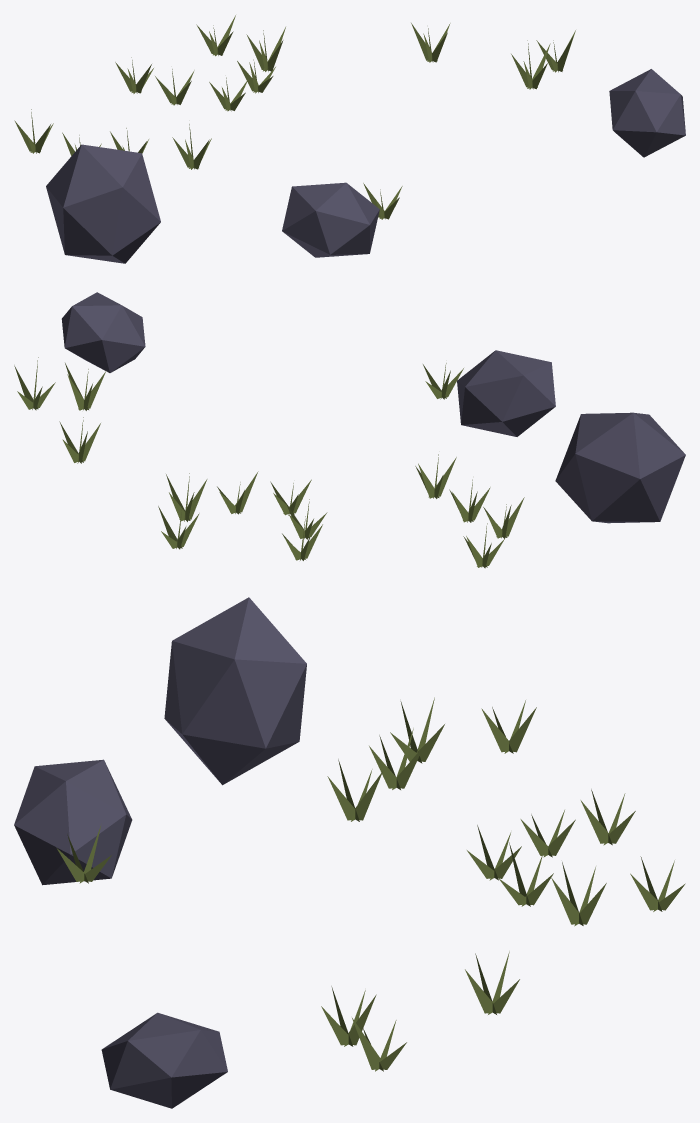
File: decors.glb
The picture shows the model from 3 angles, top to bottom: view 1: azimuth 30°, elevation 25°; view 2: azimuth 150°, elevation 25°; view 3: azimuth 270°, elevation 25°; orthographic projection. The views are drawn at different scales.
Visible parts, largest first — view 1: Rock_0, Rock_1, Rock_2, Grass_12, Grass_18, Grass_07, Grass_17, Grass_11, Grass_05, Grass_09, Grass_16, Grass_08 (+3 smaller); view 2: Rock_0, Rock_1, Rock_2, Grass_18, Grass_12, Grass_07, Grass_10, Grass_11, Grass_17, Grass_15, Grass_00, Grass_06 (+5 smaller); view 3: Rock_0, Rock_1, Rock_2, Grass_18, Grass_11, Grass_07, Grass_15, Grass_12, Grass_09, Grass_05, Grass_06, Grass_08 (+5 smaller).
Part boxes in pixels (x1,y1,x2,y2): Rock_0: (46, 144, 160, 263); Rock_1: (282, 182, 379, 257); Rock_2: (609, 69, 685, 157); Grass_12: (511, 40, 550, 89); Grass_18: (246, 27, 285, 71); Grass_07: (411, 23, 450, 62); Grass_17: (196, 15, 235, 56); Grass_11: (172, 124, 211, 169); Grass_05: (115, 57, 153, 93); Grass_09: (14, 109, 53, 153); Grass_16: (209, 77, 248, 111); Grass_08: (237, 59, 275, 93); Rock_0: (555, 412, 685, 523); Rock_1: (457, 350, 555, 436); Rock_2: (61, 292, 145, 372); Grass_18: (166, 473, 207, 521); Grass_12: (65, 363, 105, 410); Grass_07: (59, 417, 100, 463); Grass_10: (14, 357, 55, 410); Grass_11: (415, 454, 456, 498); Grass_17: (158, 506, 199, 549); Grass_15: (449, 479, 490, 522); Grass_00: (423, 363, 463, 399); Grass_06: (483, 497, 524, 538); Rock_0: (164, 597, 306, 785); Rock_1: (14, 759, 132, 885); Rock_2: (101, 1012, 227, 1108); Grass_18: (551, 862, 606, 926); Grass_11: (327, 759, 382, 821); Grass_07: (465, 951, 519, 1014); Grass_15: (369, 728, 424, 789); Grass_12: (321, 986, 376, 1046); Grass_09: (481, 700, 536, 753); Grass_05: (580, 789, 635, 845); Grass_06: (390, 697, 444, 763); Grass_08: (498, 842, 553, 906).
Size of the model in its own units: 6.5 by 1.23 by 4.55.
